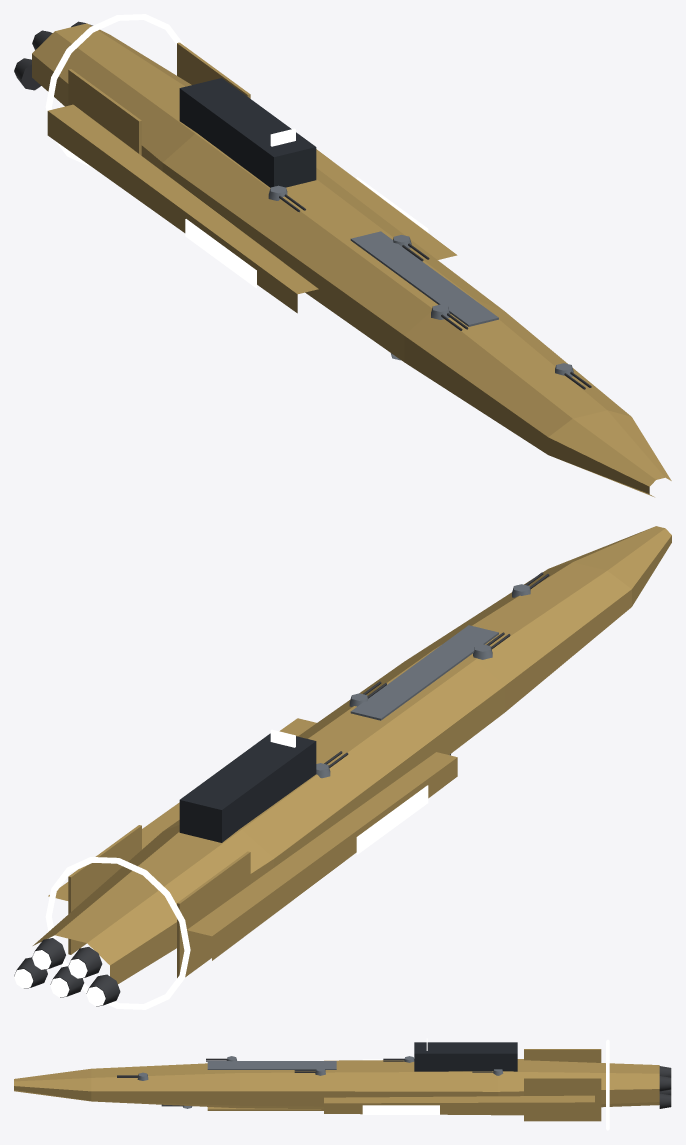
The model's file is space_ship_cruiser_mk7.glb.
3 views of the same model, one above another, from view 1: azimuth 30°, elevation 25°; view 2: azimuth 150°, elevation 25°; view 3: azimuth 270°, elevation 25° (orthographic). The views are drawn at different scales.
Parts seen in each view (by area): view 1: body, hangar_r; view 2: body, hangar_r, engine_0, engine_1, engine_3, engine_4, engine_2; view 3: body, hangar_l, engine_3, engine_4.
Boxes of the visible parts, x1,y1,x2,y2 form: body: [32, 14, 671, 497]; hangar_r: [185, 219, 256, 288]; body: [33, 526, 671, 1009]; hangar_r: [356, 785, 428, 854]; engine_0: [86, 974, 120, 1006]; engine_1: [68, 947, 102, 978]; engine_3: [32, 938, 65, 969]; engine_4: [14, 957, 47, 988]; engine_2: [50, 966, 84, 997]; body: [14, 1038, 659, 1130]; hangar_l: [362, 1105, 439, 1114]; engine_3: [659, 1075, 671, 1091]; engine_4: [659, 1093, 671, 1108].
Size of what is drawn, in the model's own units: 18.56 by 15.97 by 112.
